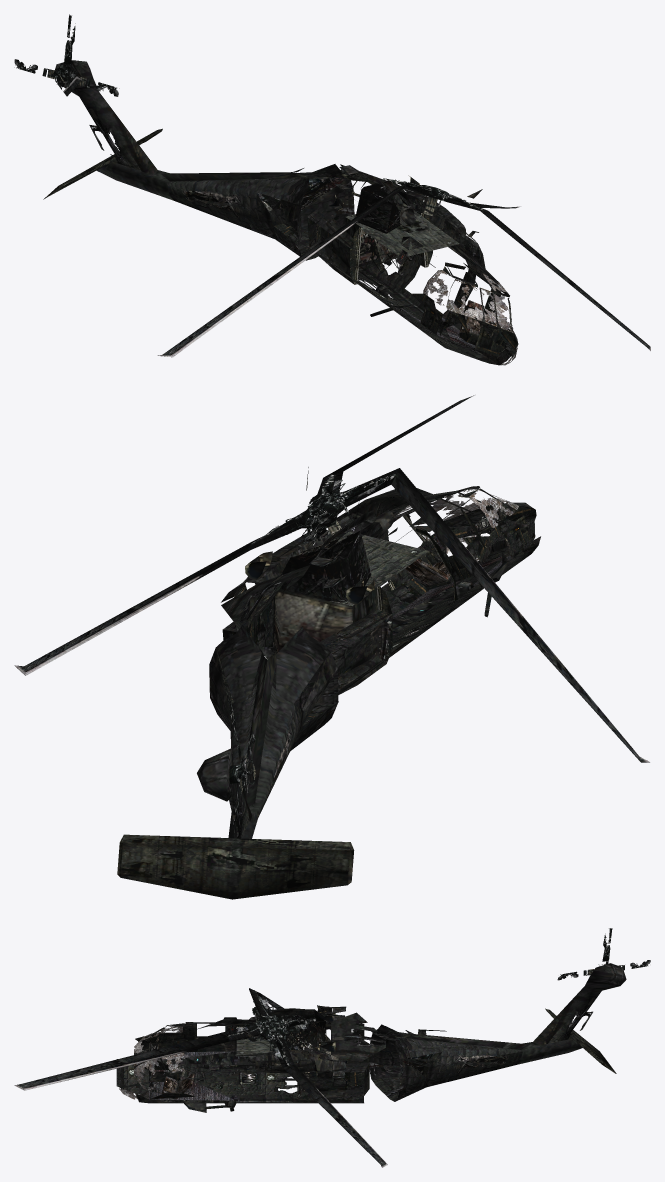
Rendered from BHDFX.glb.
The picture shows the model from 3 angles, top to bottom: view 1: azimuth 30°, elevation 25°; view 2: azimuth 150°, elevation 25°; view 3: azimuth 270°, elevation 25°; orthographic projection. The views are drawn at different scales.
Visible parts, largest first — view 1: _BHDFX; view 2: _BHDFX; view 3: _BHDFX.
Part boxes in pixels (x1,y1,x2,y2): _BHDFX: [14, 14, 650, 365]; _BHDFX: [14, 395, 649, 899]; _BHDFX: [14, 928, 650, 1167].
Bounding box in the file's own units: 15.03 × 5.91 × 25.41.
Materials: 3 (3 with a texture image).
